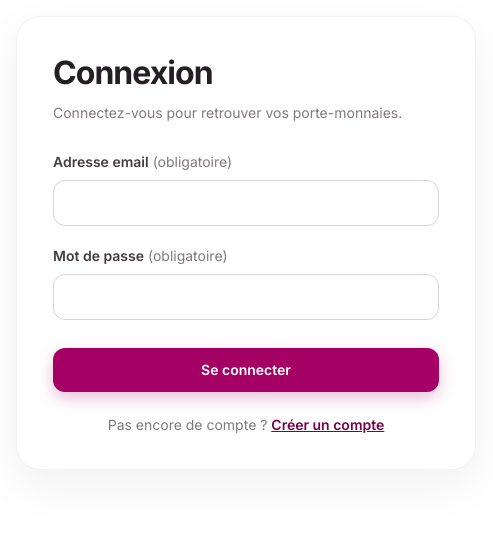
Test case: formulaires d’authentification › affiche une erreur de connexion sans révéler de détails serveur
The width and height of the screenshot is (493, 554).
Type "alice@example.com" into the field labelled "Adresse email (obligatoire)". click: point(246, 203)
box: [53, 180, 439, 226]
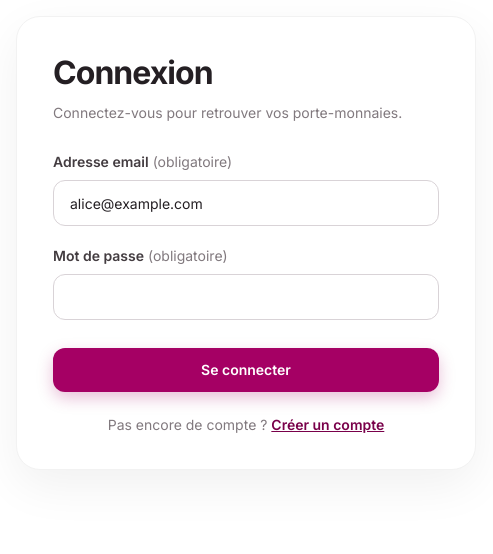
Type "bad-password" into the password field labelled "Mot de passe (obligatoire)". click: point(246, 297)
box: [53, 274, 439, 320]
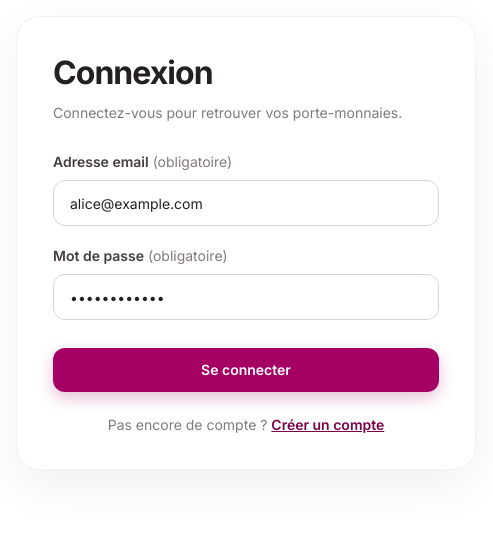
Submit the form "Se connecter", box [53, 152, 439, 392]
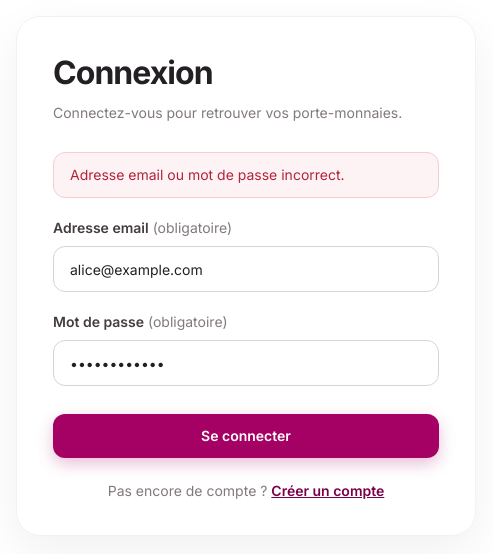
Now the message reads "Adresse email ou mot de passe incorrect.", box [70, 166, 345, 183]
